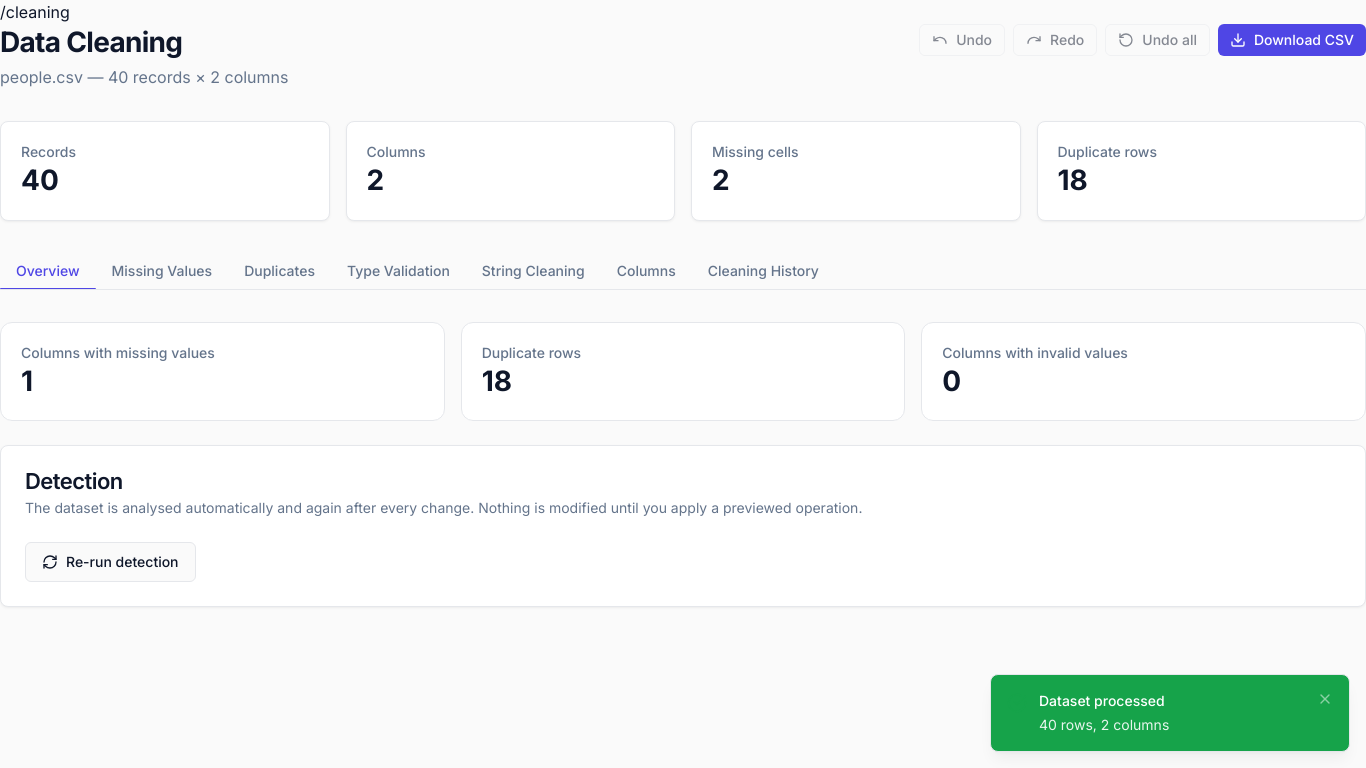
Test: Cleaning page › detects problems by itself, previews the exact cell changes and applies them
The image size is (1366, 768).
Later steps or results of the test are not shown.
Expected: the text "2" below "Missing cells" is shown, [712,163,730,197]
Click the tab "Missing Values": (162, 271) [96,253,228,289]
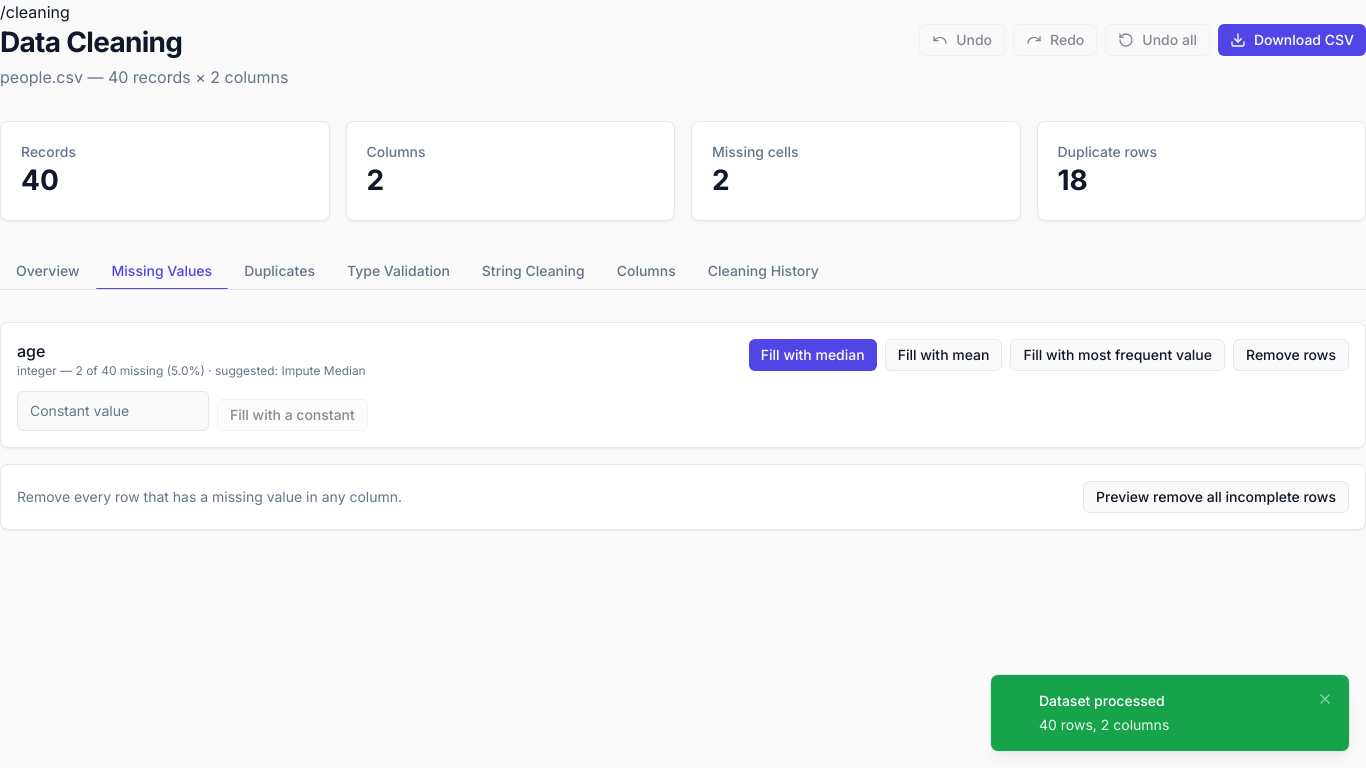
Click the button "Fill with median": (813, 355) [749,339,877,371]
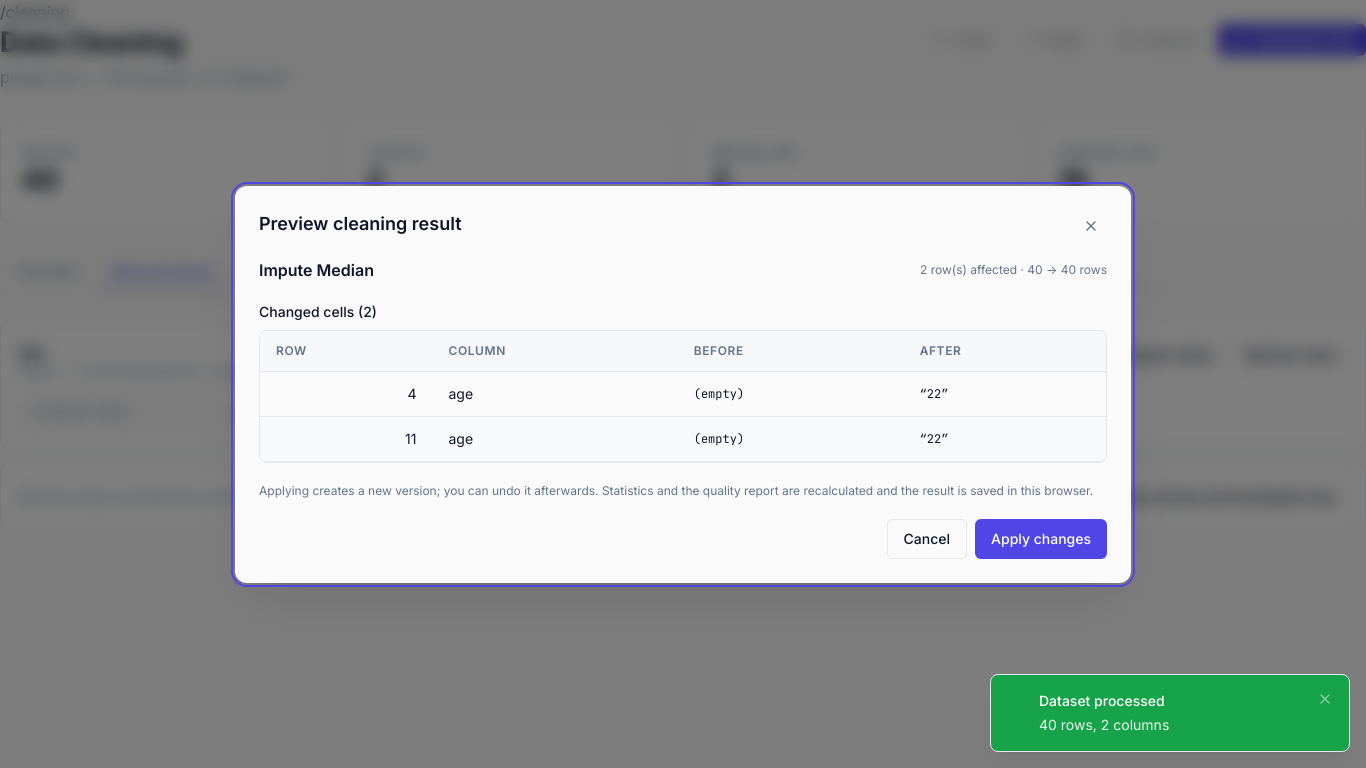
Expected: the text "Changed cells (2)" is shown, [259,302,377,320]
Expected: the text "(empty)" is shown 2 times, [694,386,744,402]; [694,430,744,446]
Expected: the text "“22”" is shown 2 times, [920,386,948,402]; [920,430,948,446]
Click the button "Apply changes": (1041, 538) [975,518,1107,558]
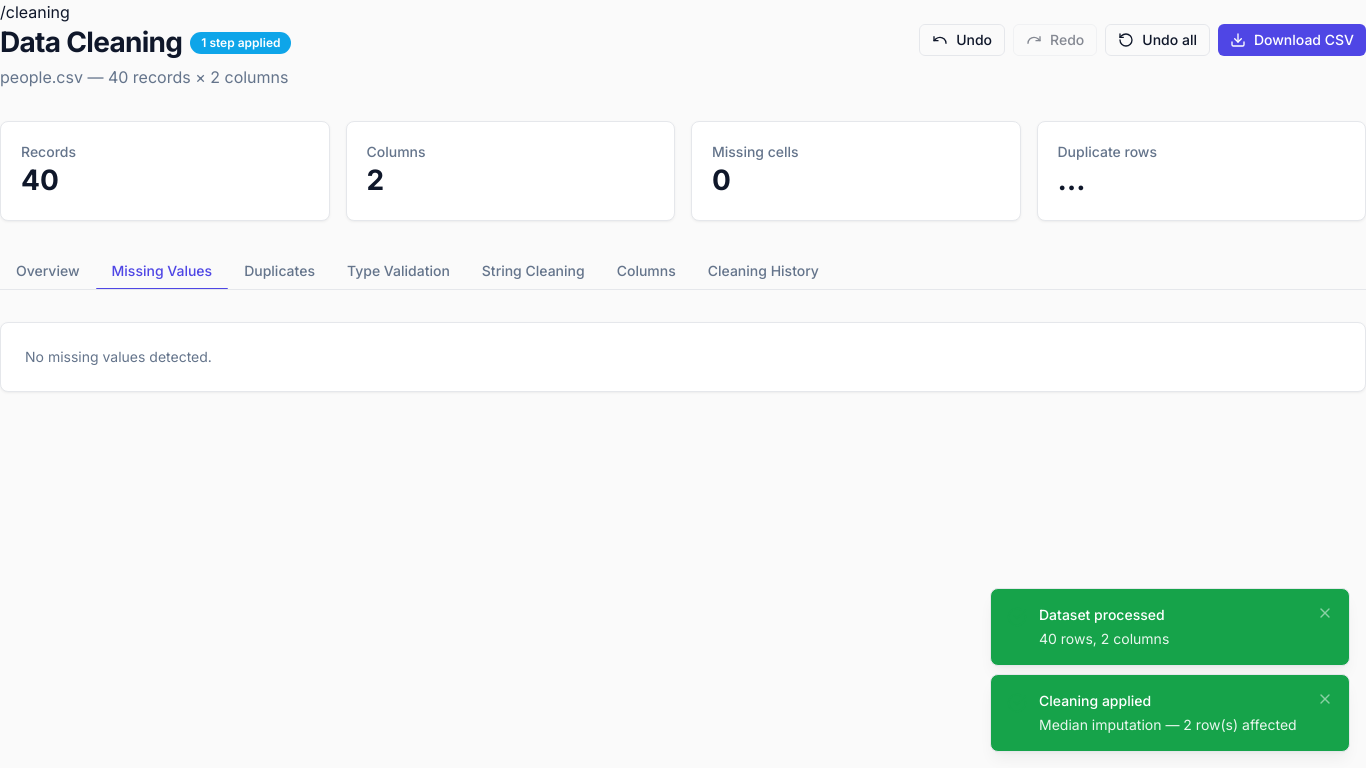
Expected: the text "0" is shown, [712,163,731,197]
Expected: the button "Undo" is enabled, [919,24,1005,56]
